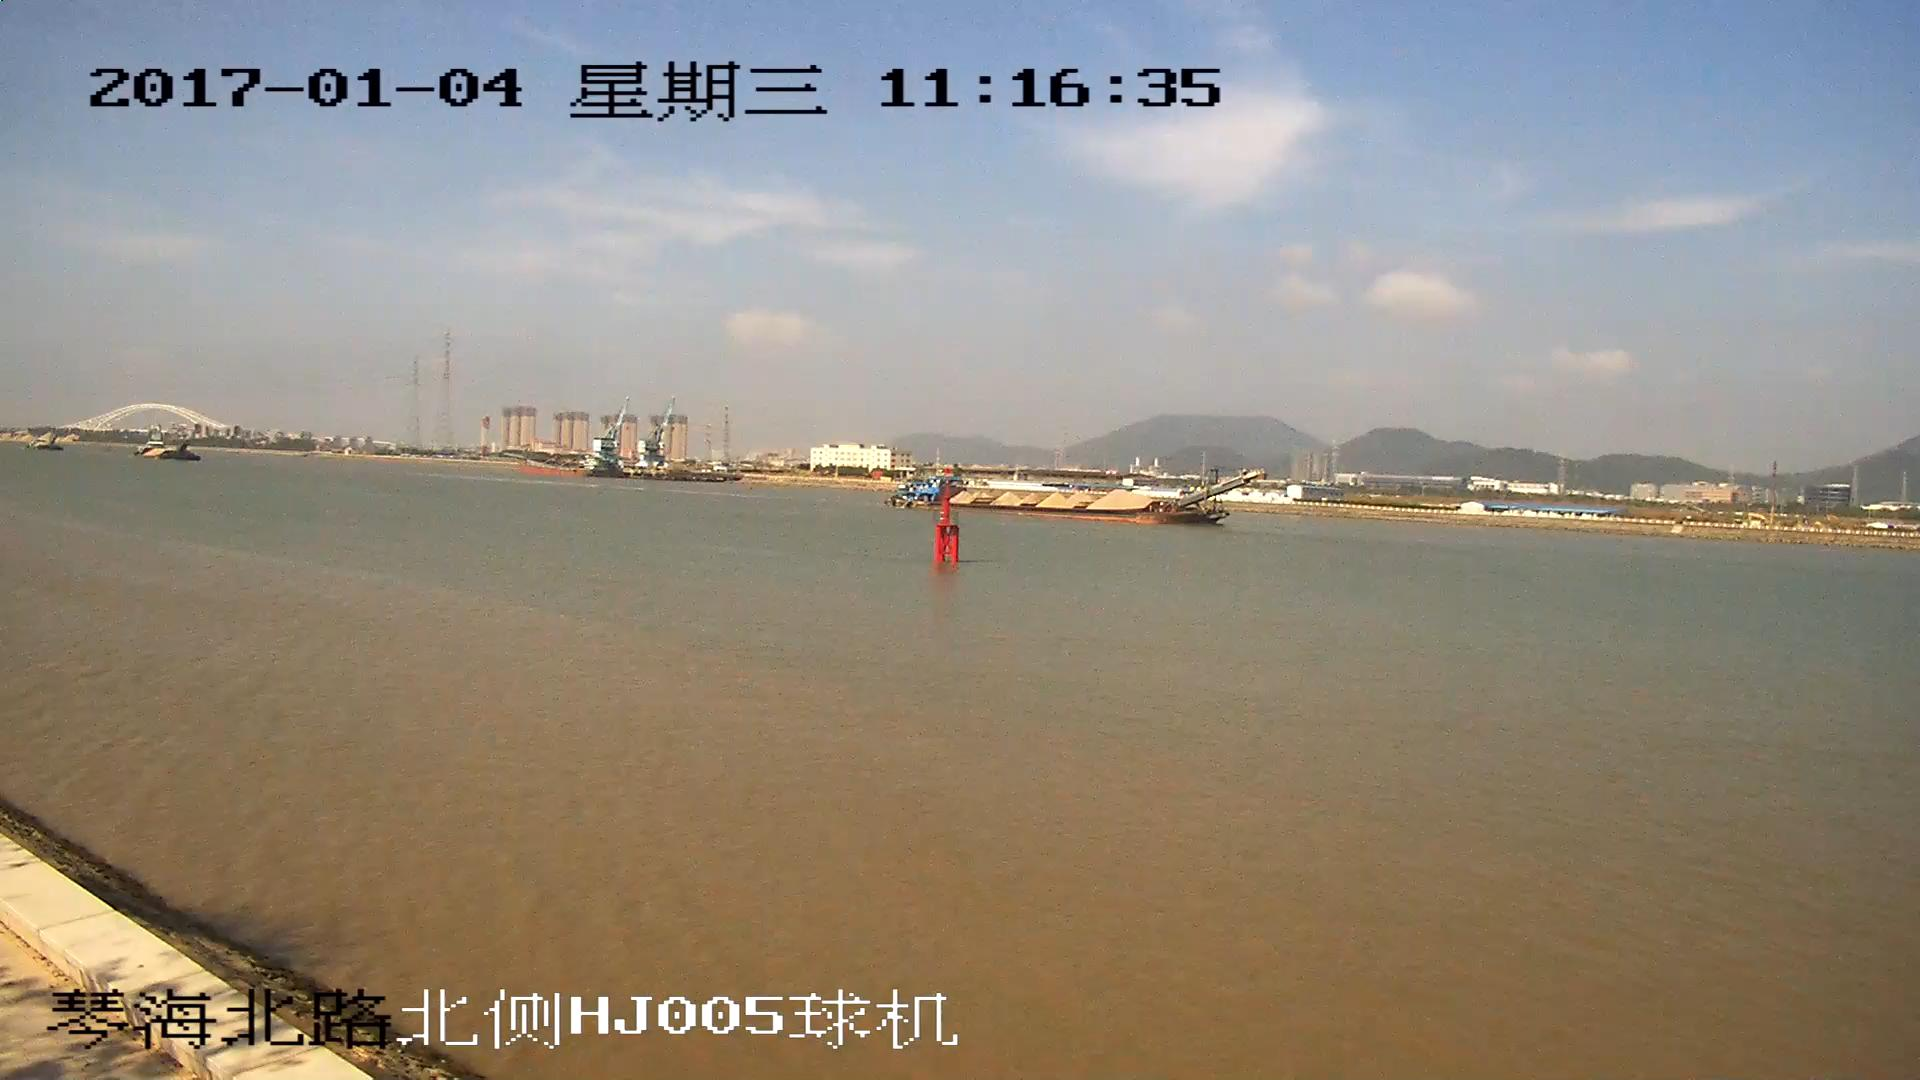ore carrier: (894, 474, 1252, 525)
